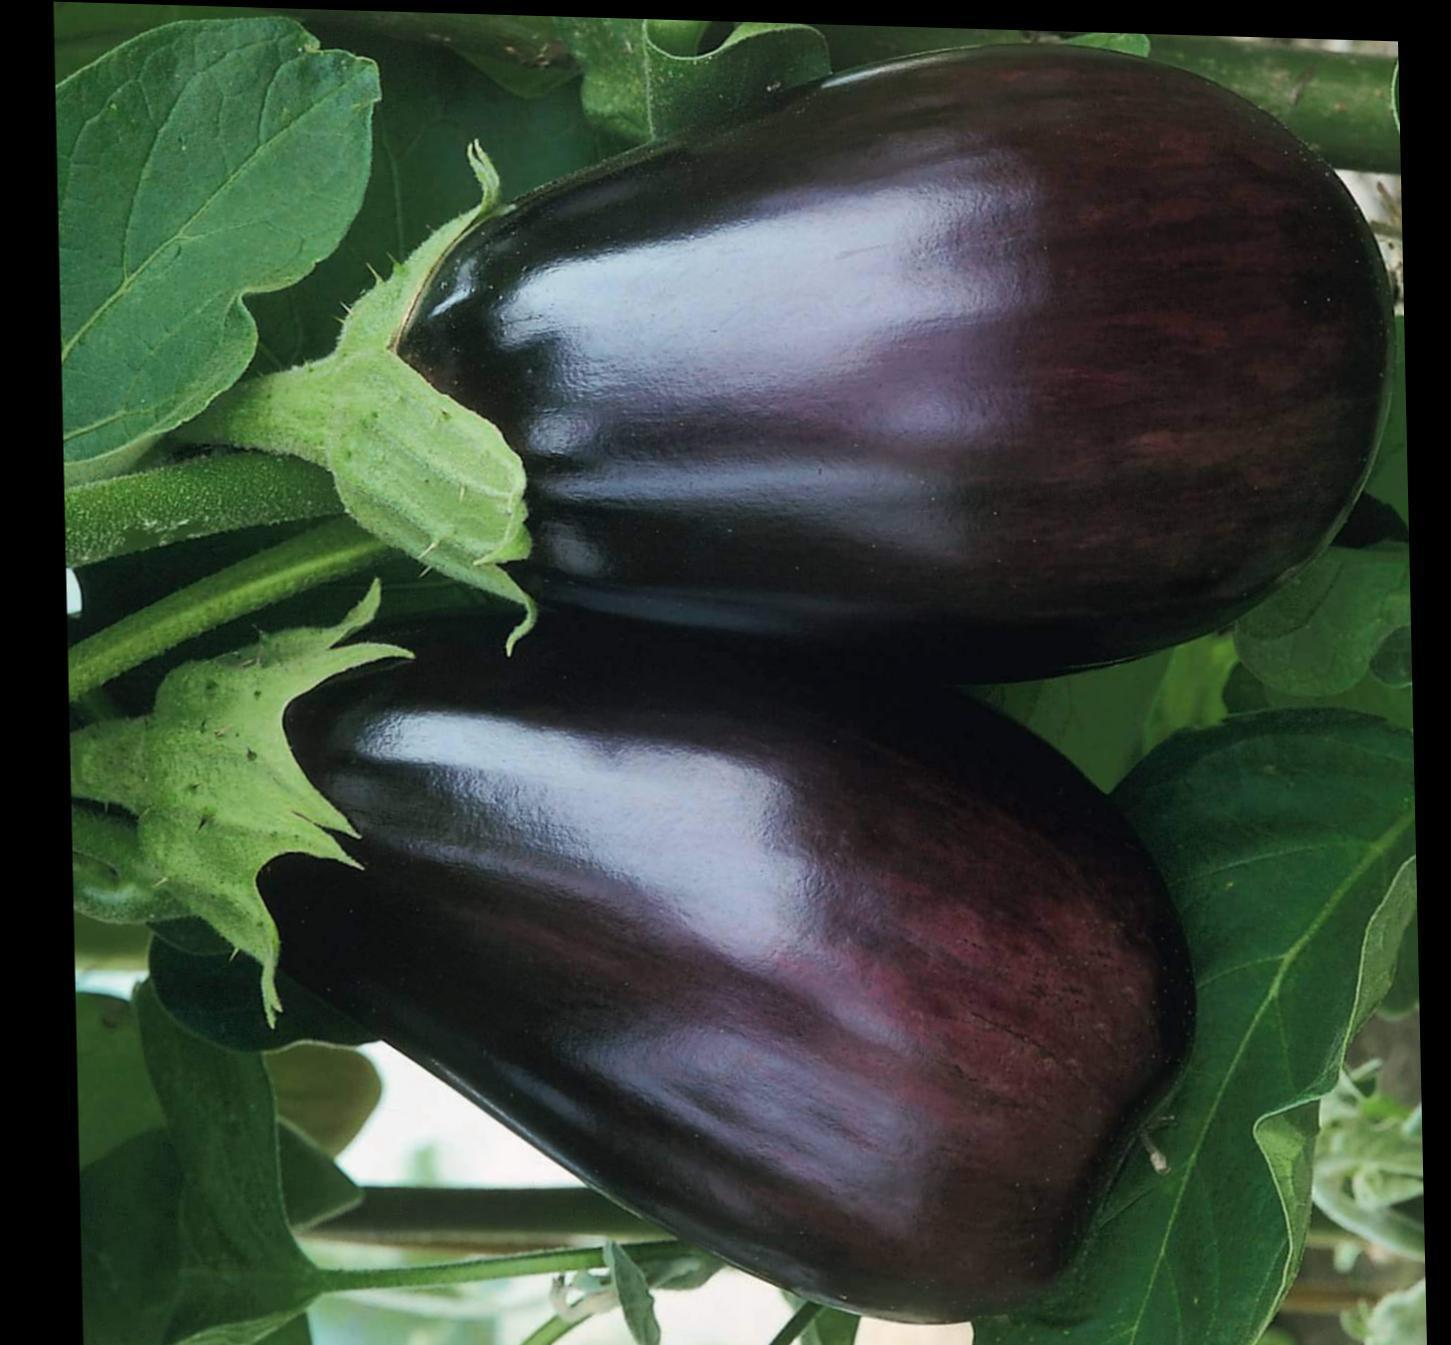eggplant: (72, 62, 1405, 1239)
